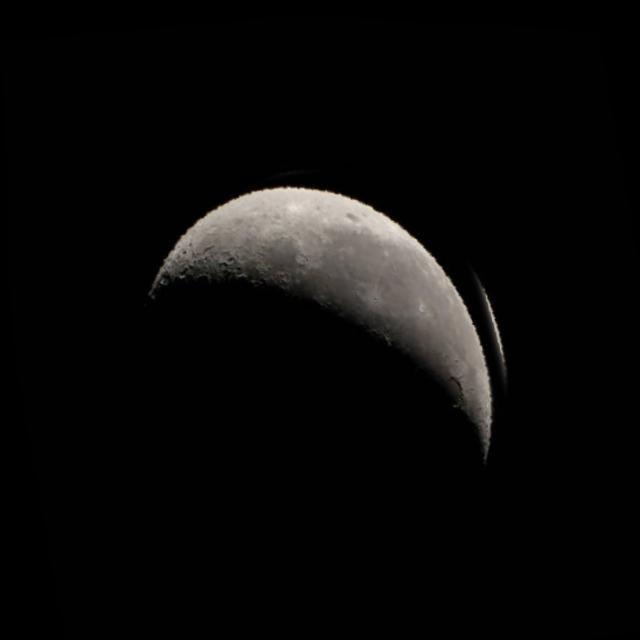moon: (96, 116, 554, 602)
